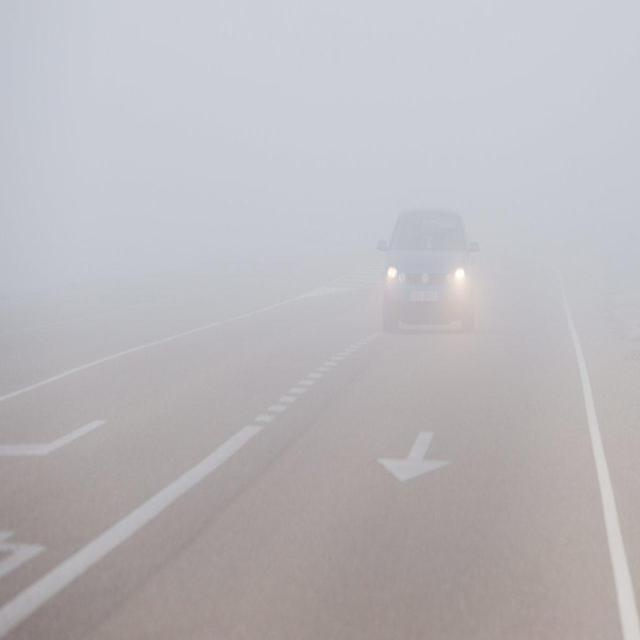Car: (379, 208, 479, 327)
